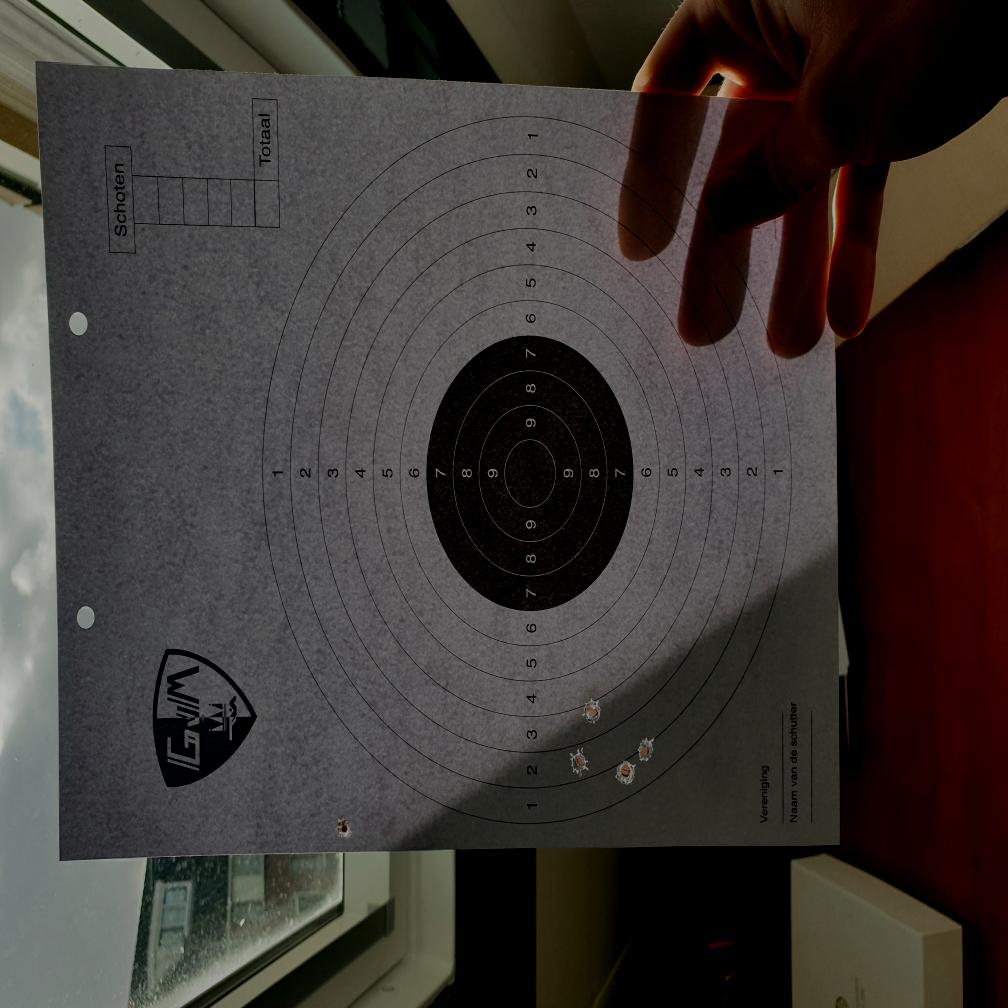0: (336, 817, 350, 838)
1: (615, 760, 636, 786)
2: (570, 746, 589, 776), (638, 737, 655, 762)
4: (582, 699, 601, 724)
Target: (260, 111, 795, 826)
black_contour: (427, 336, 633, 610)
